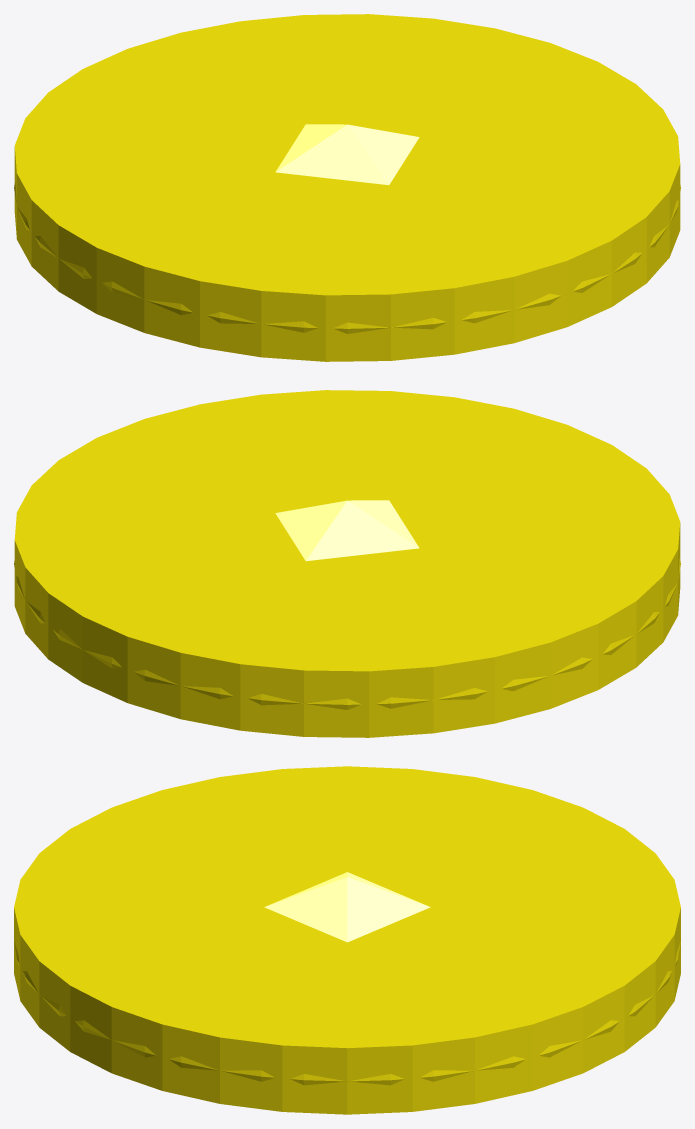
The model's file is coin.glb.
3 renders of one model, top to bottom at view 1: azimuth 30°, elevation 25°; view 2: azimuth 150°, elevation 25°; view 3: azimuth 270°, elevation 25°, orthographic.
Visible parts, largest first — view 1: Coin_Disc, Star_Front, Coin_Rim; view 2: Coin_Disc, Star_Front, Coin_Rim; view 3: Coin_Disc, Star_Front, Coin_Rim.
Part boxes in pixels (x1,y1,x2,y2): Coin_Disc: (14,14,680,361); Star_Front: (275,124,419,185); Coin_Rim: (14,182,680,333); Coin_Disc: (14,390,680,737); Star_Front: (275,500,419,561); Coin_Rim: (14,558,680,709); Coin_Disc: (14,766,680,1114); Star_Front: (264,872,430,942); Coin_Rim: (14,941,680,1085).
Size of the model in its own units: 2 by 0.42 by 2.
